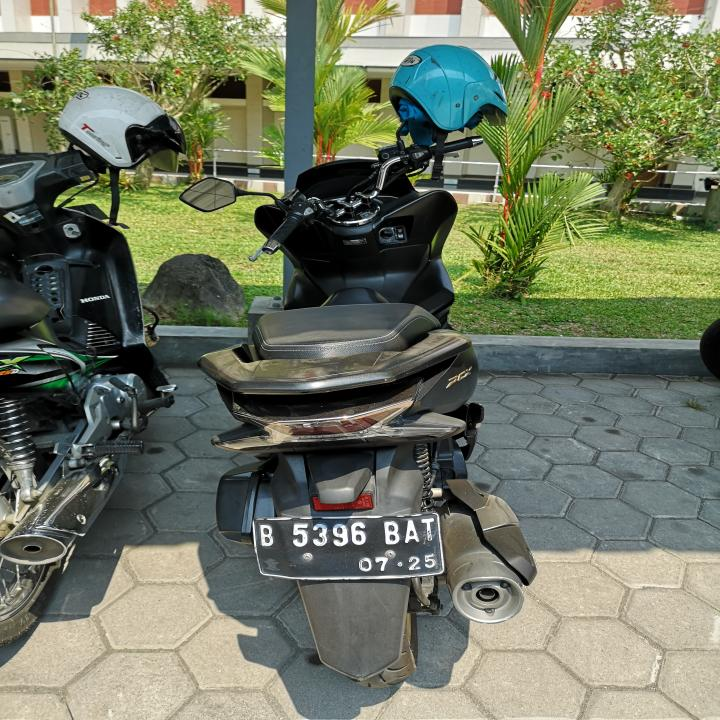plate: (250, 510, 448, 580)
